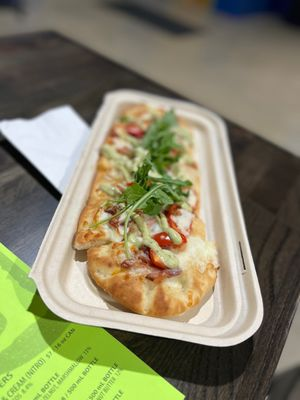sandwich: (73, 101, 220, 320)
